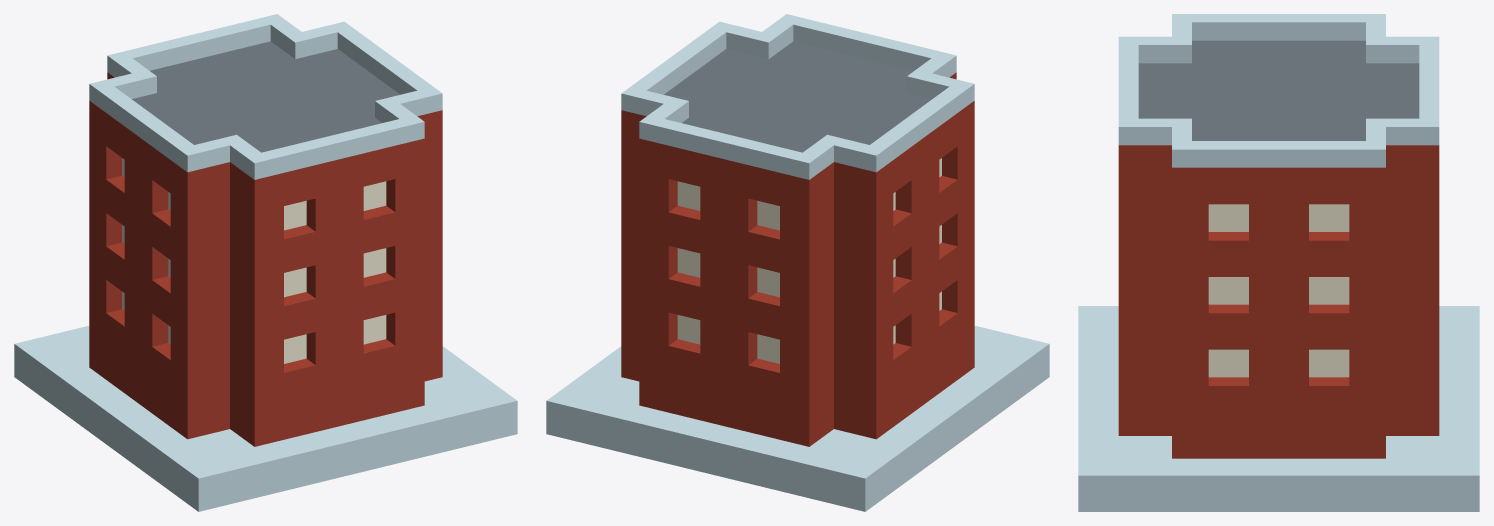
Rendered from Building_4_Base (Red).obj.
3 renders of one model, left to right at view 1: azimuth 30°, elevation 25°; view 2: azimuth 150°, elevation 25°; view 3: azimuth 270°, elevation 25°, orthographic. The views are drawn at different scales.
Visible parts, largest first — view 1: Building_4_Base_(Red); view 2: Building_4_Base_(Red); view 3: Building_4_Base_(Red).
Boxes of the visible parts, x1,y1,x2,y2 form: Building_4_Base_(Red): (14, 14, 517, 511); Building_4_Base_(Red): (546, 14, 1049, 511); Building_4_Base_(Red): (1078, 14, 1479, 511).
Size of the model in its own units: 2 by 1.9 by 2.
